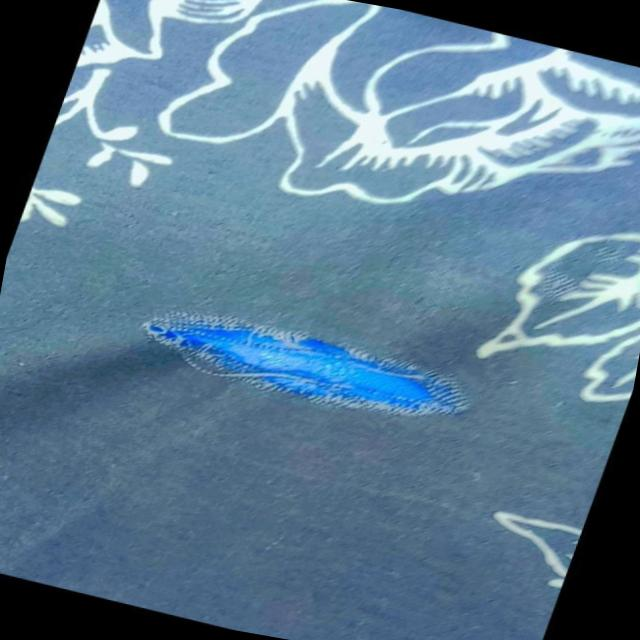cut: (109, 278, 507, 456)
